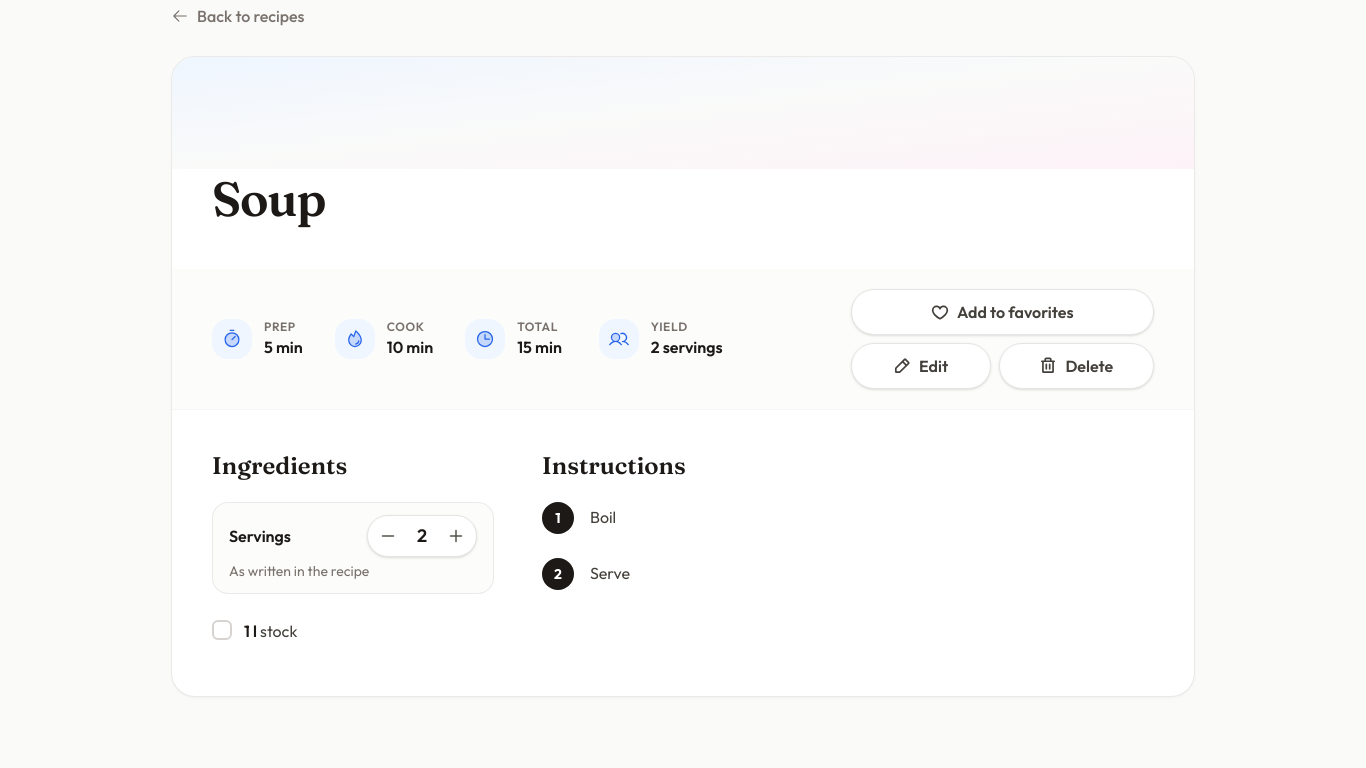
switching language keeps the selected servings and checked ingredients without refetching
Check: the heading "Soup" is shown, box [212,169,325,228]
Click the button named "More servings" at {"x": 456, "y": 536}, box [440,520,472,552]
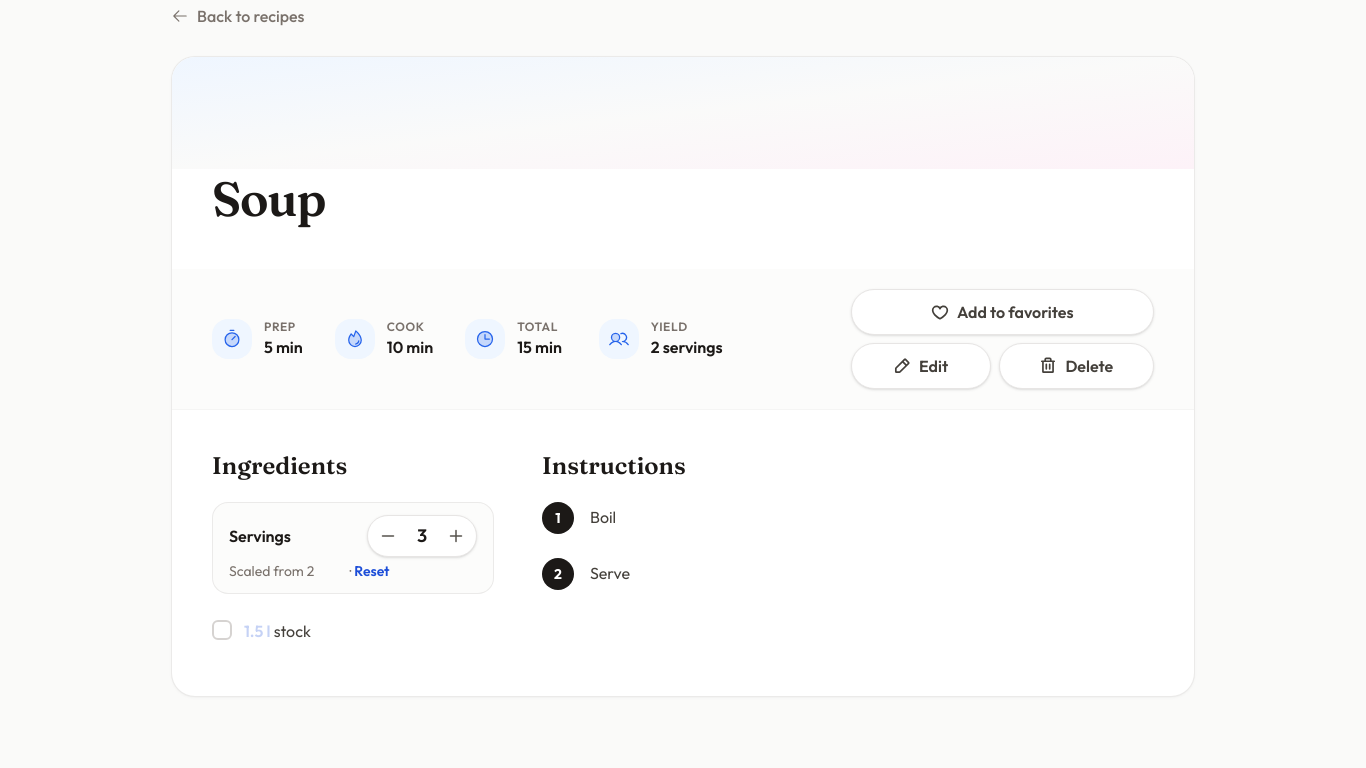
Click the checkbox at {"x": 262, "y": 630}, box [212,620,311,641]
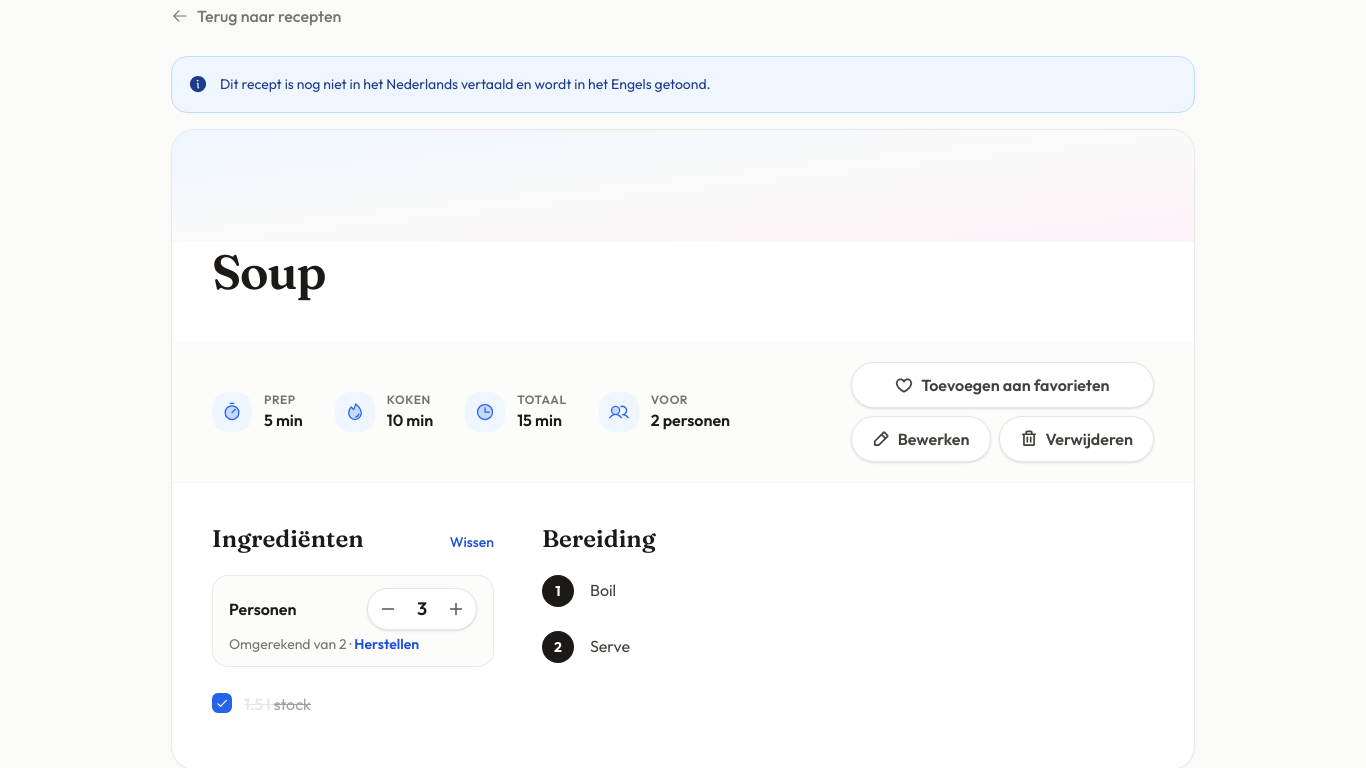
Check: the checkbox is checked, box [212,693,311,714]
Check: the heading "Ingrediënten" is shown, box [212,523,364,555]
Check: the button with aria-label "Herstellen naar 2 personen" is shown, box [354,634,419,654]
